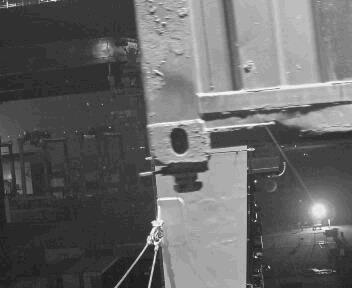twist_lock_1: (181, 154, 268, 211)
